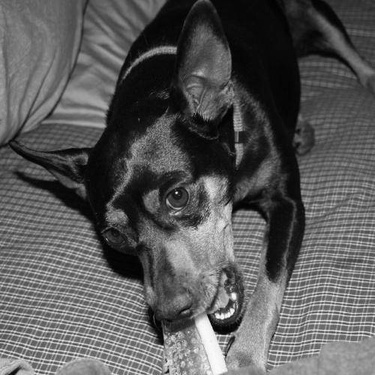dog: (9, 2, 372, 372)
